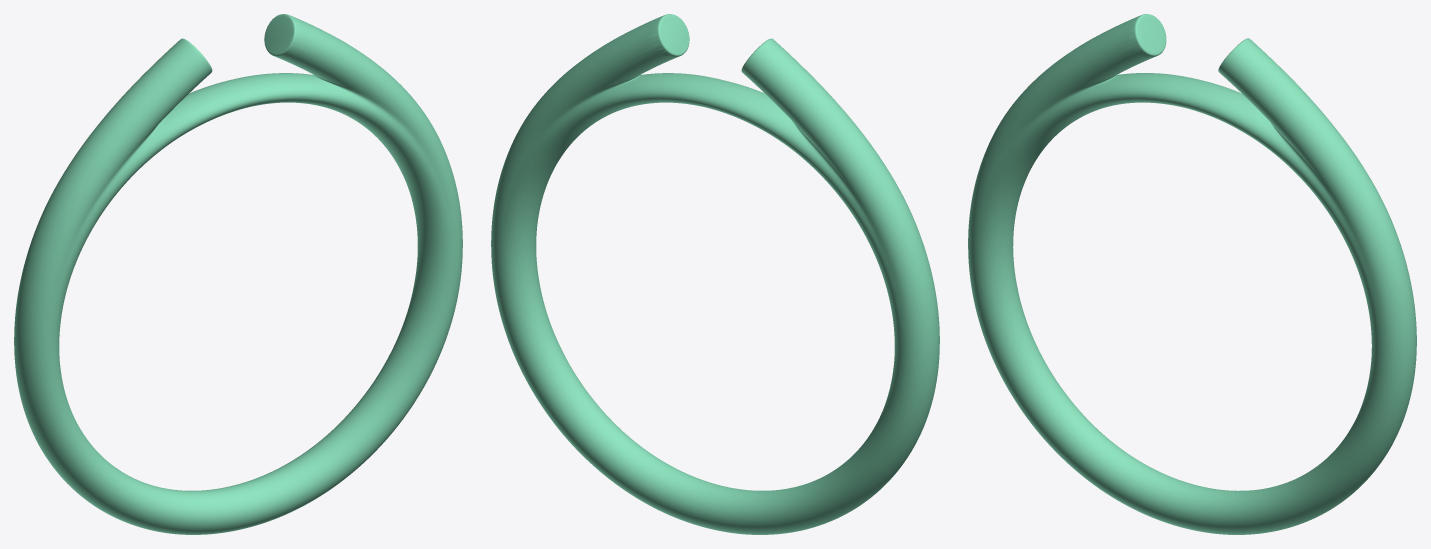
The picture shows the model from 3 angles, left to right: view 1: azimuth 30°, elevation 25°; view 2: azimuth 150°, elevation 25°; view 3: azimuth 330°, elevation 25°; orthographic projection.
Parts seen in each view (by area): view 1: Metal02; view 2: Metal02; view 3: Metal02.
Boxes of the visible parts, <box> form: Metal02: <box>14,14,462,534</box>; Metal02: <box>491,14,939,534</box>; Metal02: <box>968,14,1416,534</box>.
Size of the model in its own units: 20.91 by 22.55 by 2.
